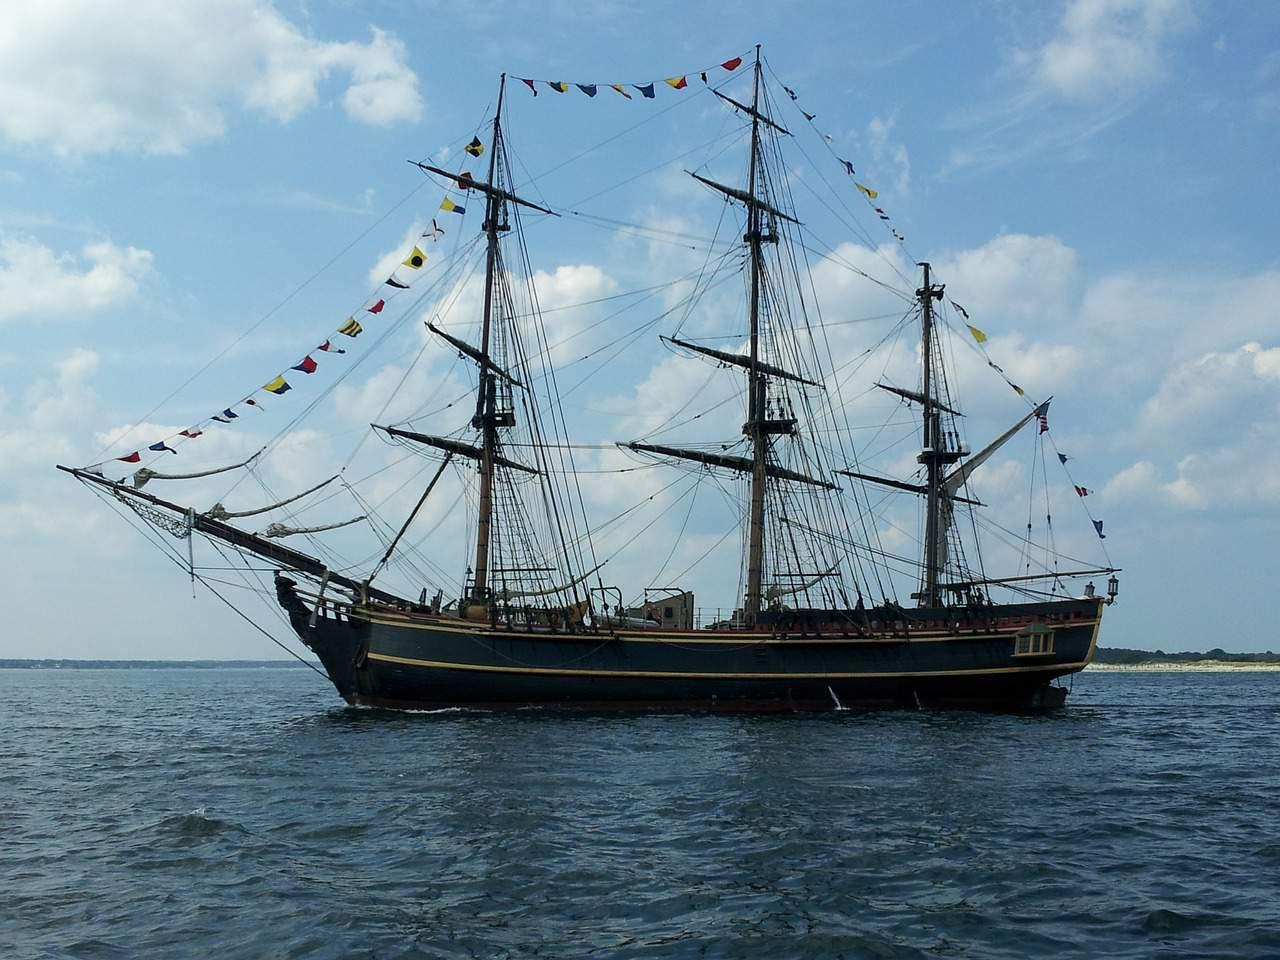Ship: (55, 43, 1121, 724)
